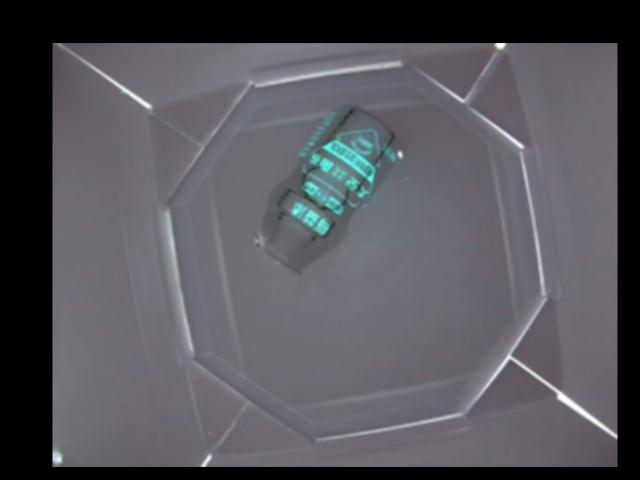Bottle: (250, 101, 407, 277)
